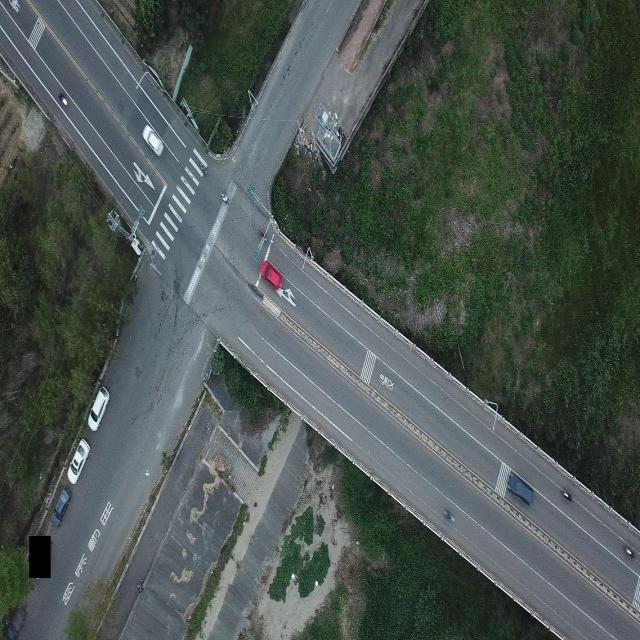car: (67, 438, 90, 484), (87, 385, 109, 432), (506, 471, 534, 505), (51, 486, 71, 528), (142, 124, 164, 157), (260, 260, 283, 290)
